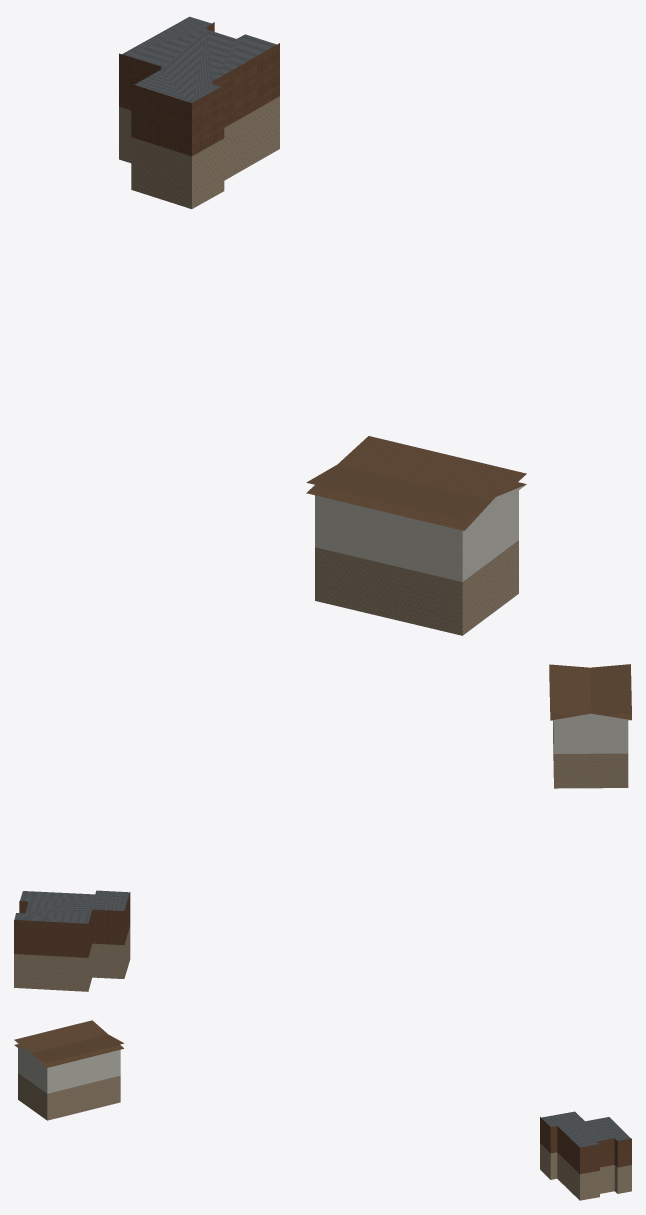
File: bld_c44_47_185.gltf
The picture shows the model from 3 angles, top to bottom: view 1: azimuth 30°, elevation 25°; view 2: azimuth 150°, elevation 25°; view 3: azimuth 270°, elevation 25°; orthographic projection. The views are drawn at different scales.
Visible parts, largest first — view 1: bld_c44_47_185; view 2: bld_c44_47_185; view 3: bld_c44_47_185.
Part boxes in pixels (left/top/right/bottom): bld_c44_47_185: left=119, top=16, right=526, bottom=635; bld_c44_47_185: left=14, top=664, right=631, bottom=991; bld_c44_47_185: left=14, top=1020, right=631, bottom=1200.
Size of the model in its own units: 45.89 by 12.9 by 106.
Materials: 7 (7 with a texture image).
